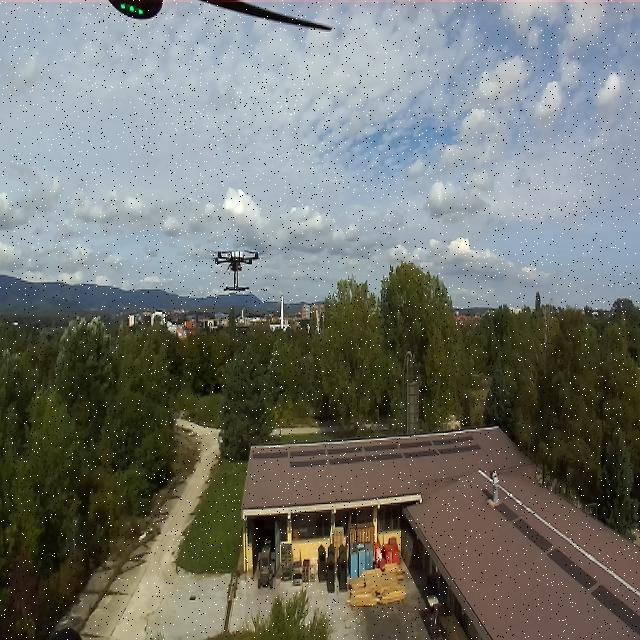UAV: (198, 241, 271, 289)
